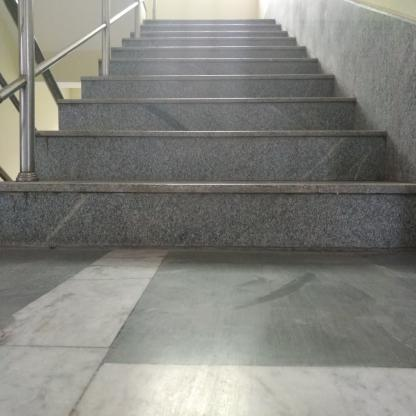stairs: (143, 29, 279, 268)
